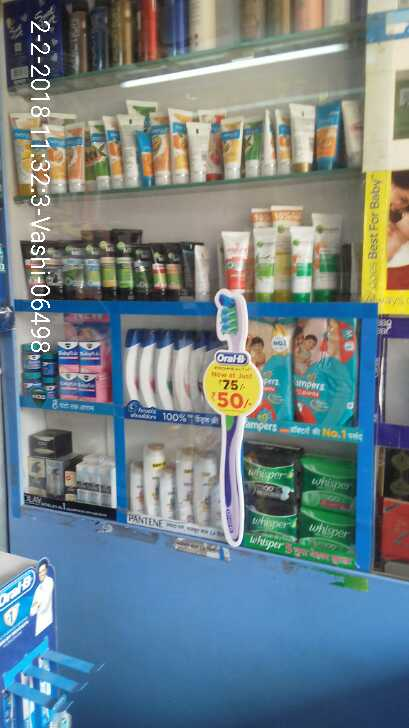beauty: (171, 329, 190, 412), (154, 329, 172, 410), (175, 447, 192, 523), (139, 328, 155, 408), (143, 444, 160, 518), (193, 455, 209, 528), (122, 328, 137, 405), (191, 322, 203, 414), (127, 464, 144, 516), (159, 467, 176, 519), (24, 456, 46, 492), (99, 467, 117, 506), (27, 433, 56, 456), (62, 470, 78, 505), (86, 470, 100, 506), (75, 466, 87, 506)
pharmacy: (289, 317, 363, 430), (239, 443, 302, 502), (298, 456, 353, 513), (297, 505, 355, 550), (243, 495, 298, 538), (55, 339, 83, 374), (78, 342, 101, 373), (78, 373, 99, 405), (57, 373, 79, 402), (39, 354, 57, 377), (41, 378, 57, 399)
